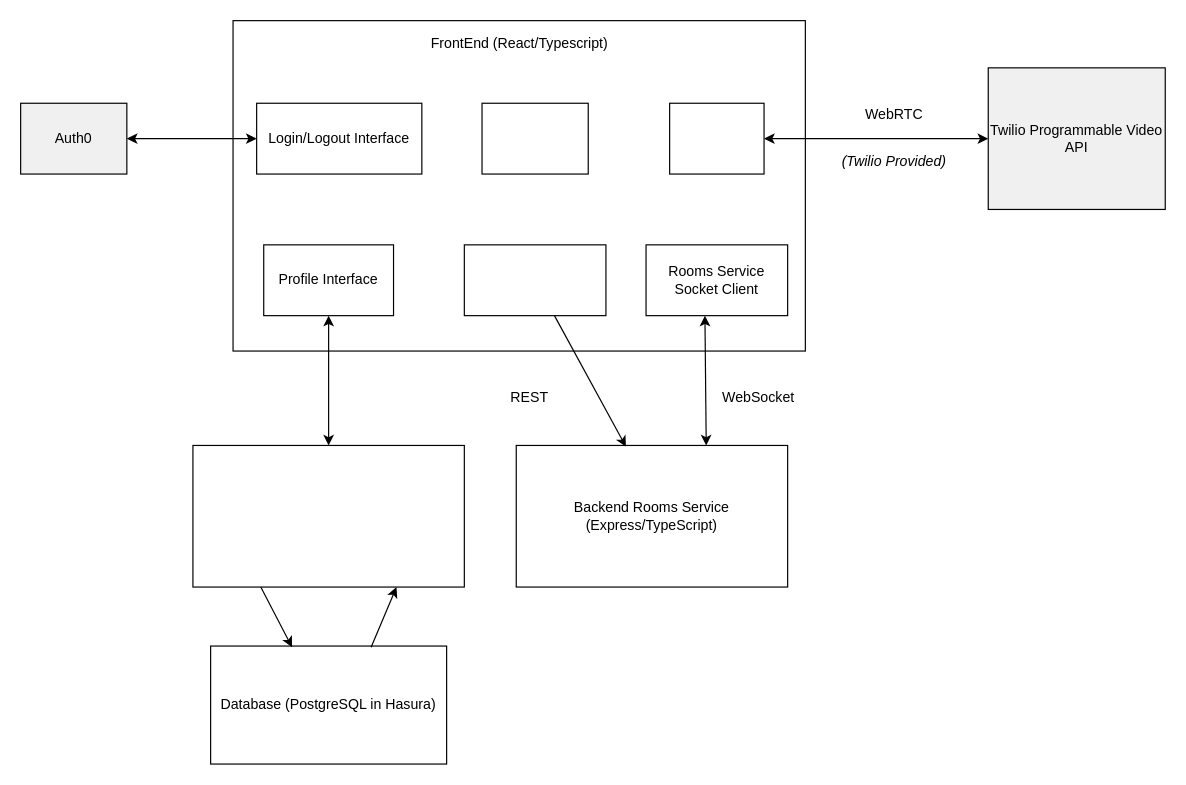
The diagram is 1186 pixels wide and 785 high, and some of its shapes have lost their labels. The centre of each missing label's shape, as x and y in pixels:
"2D Game Interface (PhaseJS)" goes at (534,138).
"Backend Profile ( Hasura + GraphQL)" goes at (328,515).
"Rooms Service REST Client" goes at (534,280).
"Video Chat Client (Twilio)" goes at (716,138).
